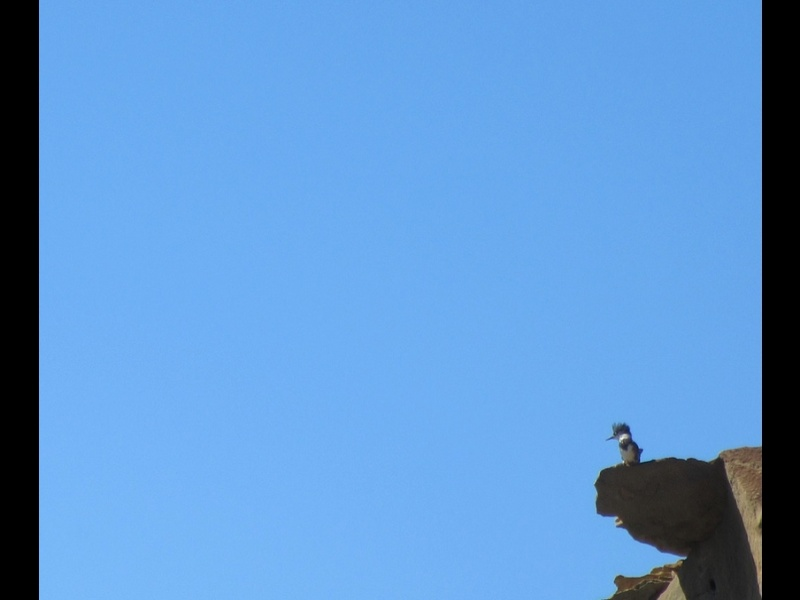kingfisher: (606, 419, 644, 470)
